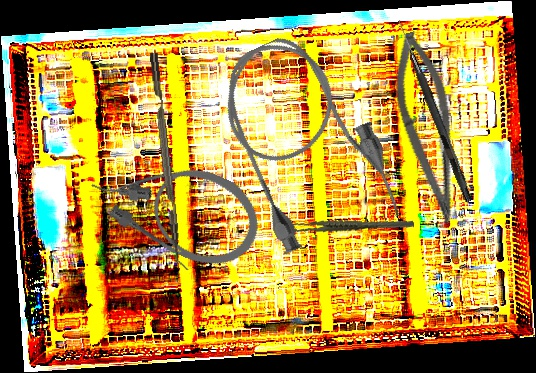Cannula: (200, 17, 412, 267), (79, 131, 274, 281)
Chopper: (149, 51, 192, 272)
Hook Surgical: (393, 19, 475, 203)
Micro Scissor: (380, 27, 480, 228)
Tissue Forceps: (289, 201, 415, 251)
